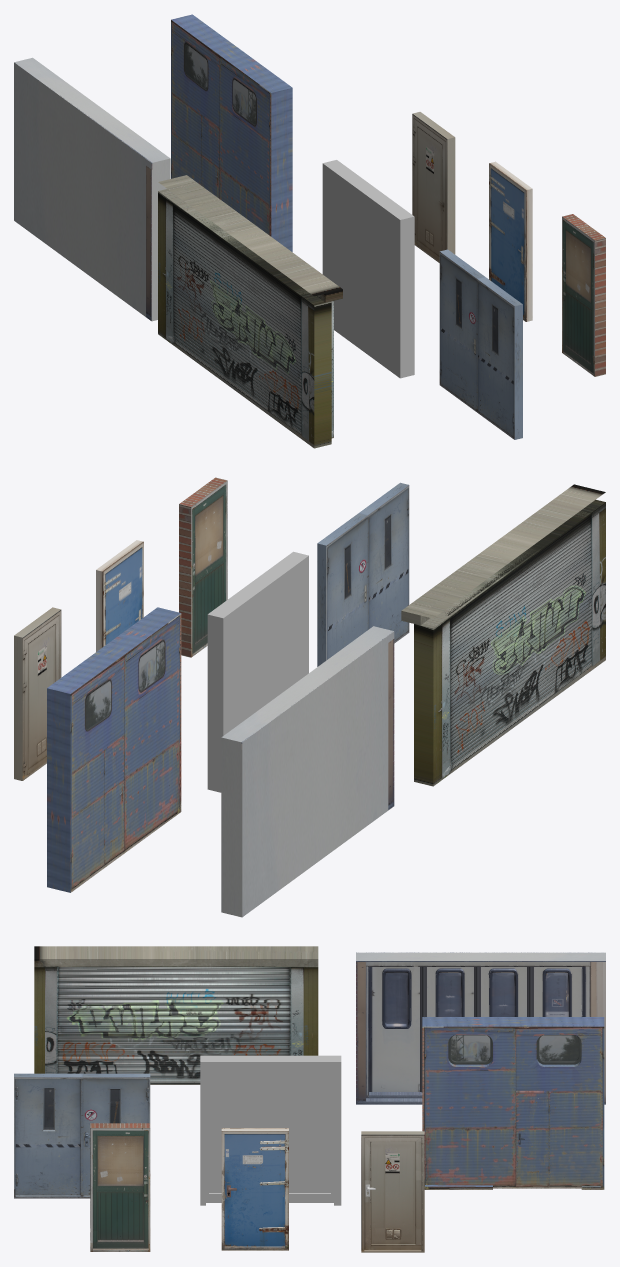
File: doorsfbx.fbx
3 renders of one model, top to bottom at view 1: azimuth 30°, elevation 25°; view 2: azimuth 150°, elevation 25°; view 3: azimuth 270°, elevation 25°, orthographic. The views are drawn at different scales.
Parts seen in each view (by area): view 1: Cube, Cube.005, Cube.001, Cube.002, Cylinder.002, Cube.007, Cube.004, Cube.006; view 2: Cube, Cube.005, Cube.001, Cube.002, Cylinder.002, Cube.007, Cube.004, Cube.006; view 3: Cube, Cube.001, Cube.005, Cube.002, Cylinder.002, Cube.006, Cube.007, Cube.004.
Boxes of the visible parts, x1,y1,x2,y2 form: Cube: (158,175,342,448); Cube.005: (14,57,170,321); Cube.001: (171,14,292,251); Cube.002: (322,160,414,378); Cylinder.002: (439,249,522,439); Cube.007: (562,214,605,376); Cube.004: (412,112,455,262); Cube.006: (489,161,532,321); Cube: (401,484,605,786); Cube.005: (221,626,394,917); Cube.001: (47,607,181,892); Cube.002: (207,551,308,792); Cylinder.002: (317,482,409,666); Cube.007: (179,477,227,657); Cube.004: (14,607,61,780); Cube.006: (96,540,143,651); Cube: (34,946,318,1084); Cube.001: (422,1017,604,1189); Cube.005: (356,952,605,1104); Cube.002: (200,1055,341,1205); Cylinder.002: (14,1073,150,1198); Cube.006: (221,1128,288,1250); Cube.007: (90,1123,150,1251); Cube.004: (361,1131,424,1252).
Size of the model in its own units: 2067 by 1203 by 3598.
